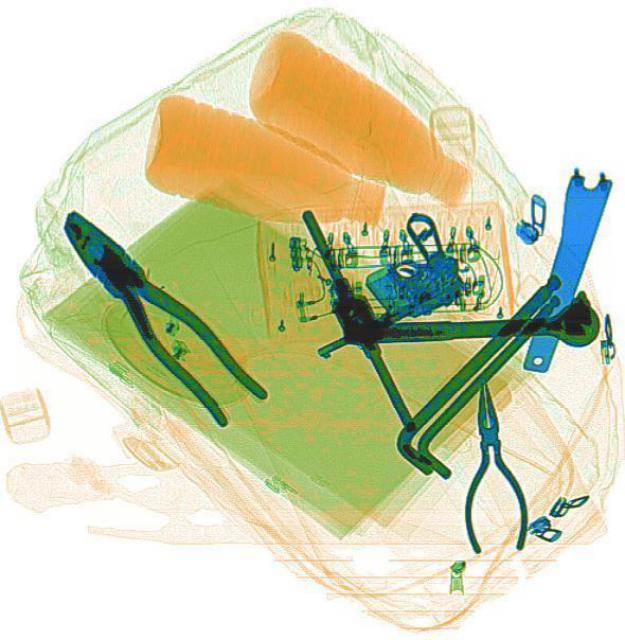Gun: (274, 205, 473, 368)
Pliers: (42, 194, 269, 432), (452, 379, 529, 551)
